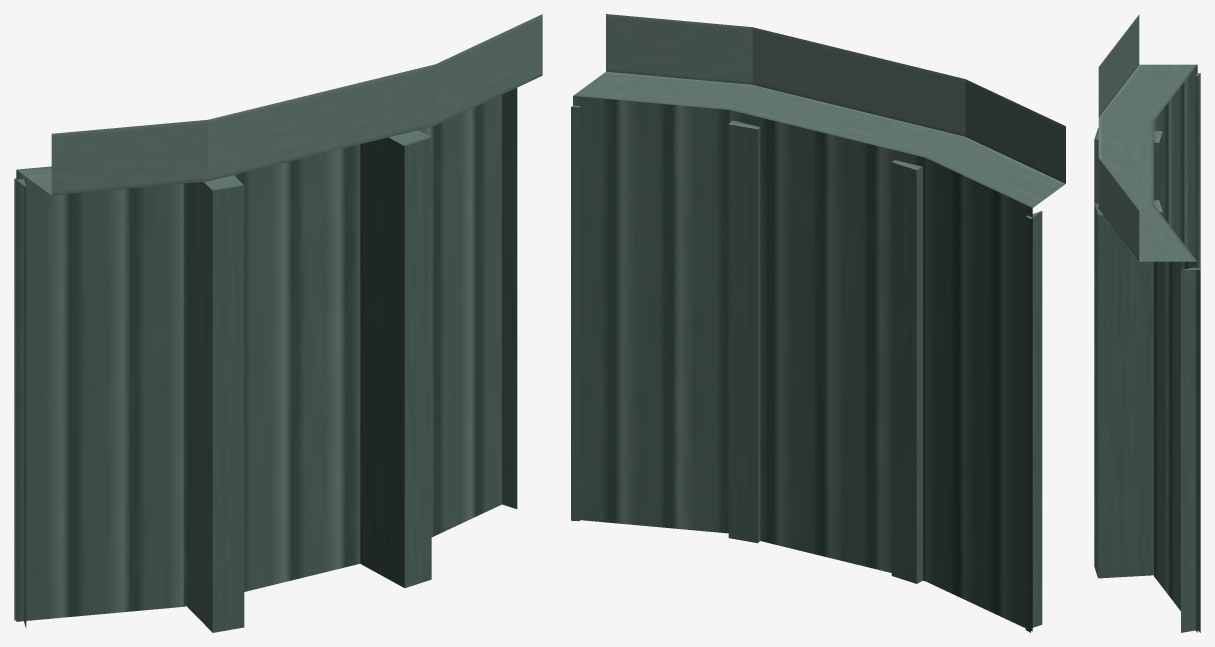
Rendered from cell_217.obj.
3 renders of one model, left to right at view 1: azimuth 30°, elevation 25°; view 2: azimuth 150°, elevation 25°; view 3: azimuth 270°, elevation 25°, orthographic. The views are drawn at different scales.
Size of the model in its own units: 1 by 1 by 0.228.
